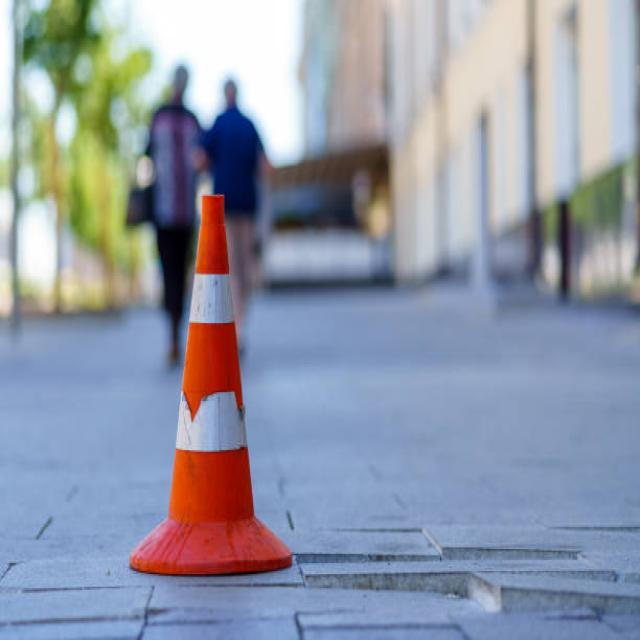Traffic Cone: (108, 164, 314, 606)
